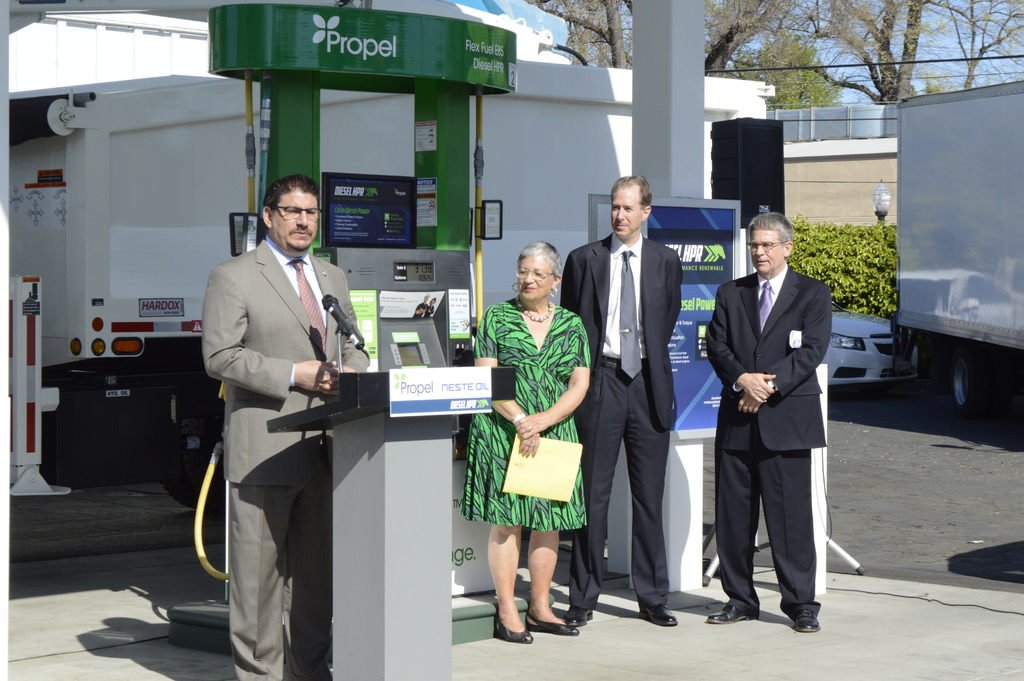Footwear: (524, 609, 579, 639), (705, 600, 762, 628), (493, 611, 530, 644), (565, 597, 598, 629), (639, 603, 676, 629), (792, 608, 816, 634)
